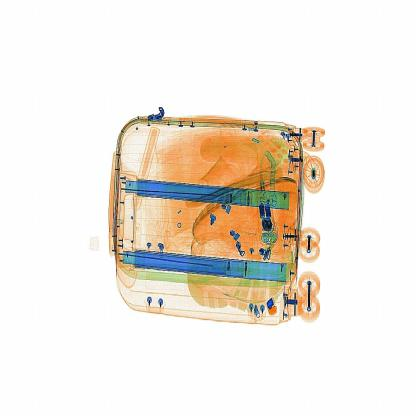wrench: (265, 293, 282, 319)
